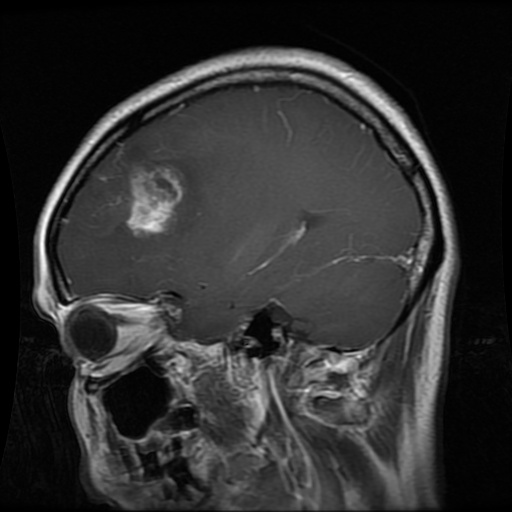glioma: (125, 158, 189, 234)
